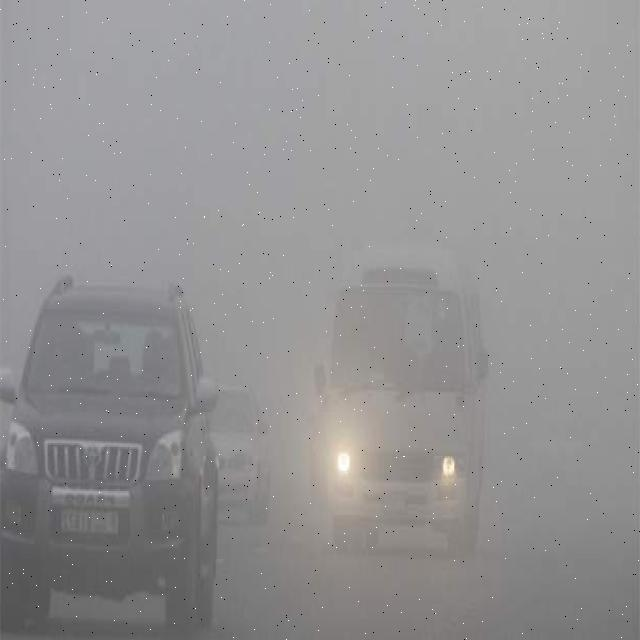car: (2, 278, 236, 631), (202, 375, 276, 524), (302, 375, 328, 515)
truck: (326, 245, 484, 544)
